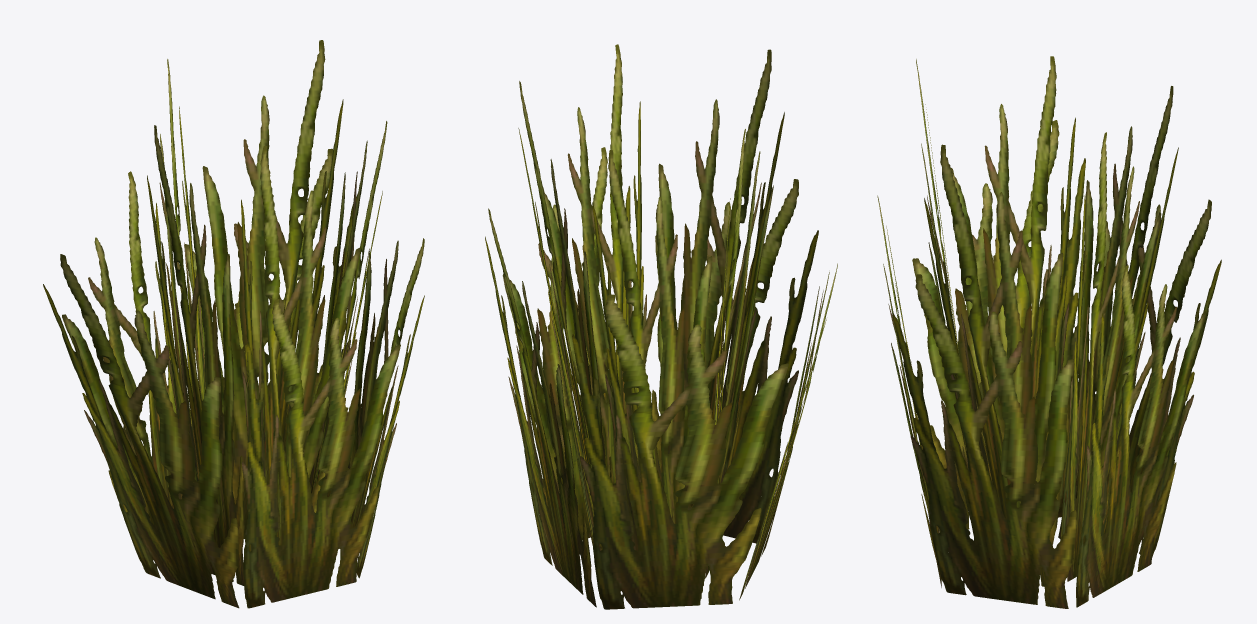
File: swampplant04.glb
3 renders of one model, left to right at view 1: azimuth 30°, elevation 25°; view 2: azimuth 150°, elevation 25°; view 3: azimuth 270°, elevation 25°, orthographic. The views are drawn at different scales.
Bounding box in the file's own units: 3.28 × 4.32 × 2.87.
Materials: 1 (1 with a texture image).
